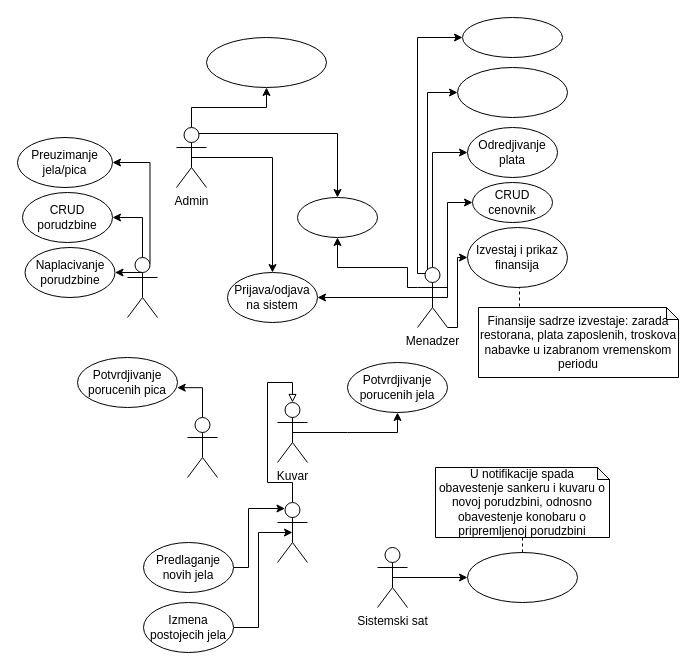
Some shapes in this 696 by 670 pixel diagram are drawn without their labels. Each missing label, with the centre of its shape:
"CRUD picovnik" goes at (x=512, y=37).
"CRUD zaposleni" goes at (x=337, y=217).
"Glavni kuvar" goes at (x=292, y=532).
"Konobar" goes at (x=142, y=287).
"Potvrdi novi jelovnik/picovnik" goes at (x=512, y=92).
"Sanker" goes at (x=202, y=447).
"Slanje notifikacija" goes at (x=522, y=577).
"Uredjivanje layout-a restorana" goes at (x=266, y=62).
